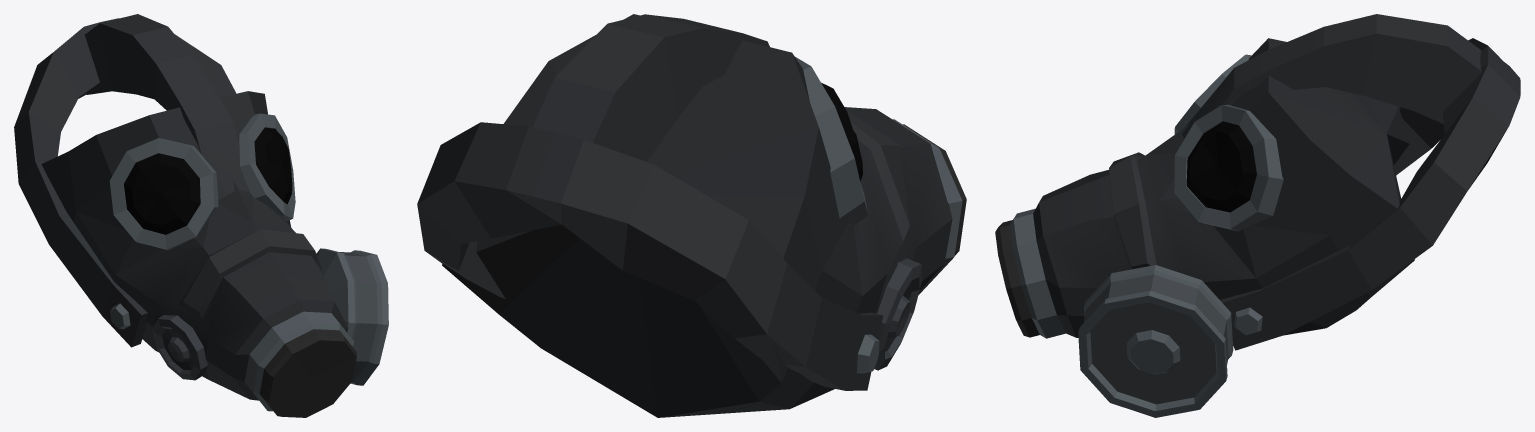
The model's file is SM_Chr_Attach_Head_GasMask_Small_01.fbx.
The picture shows the model from 3 angles, left to right: view 1: azimuth 30°, elevation 25°; view 2: azimuth 150°, elevation 25°; view 3: azimuth 270°, elevation 25°; orthographic projection. The views are drawn at different scales.
Parts seen in each view (by area): view 1: SM_Chr_Attach_Head_GasMask_Small_01; view 2: SM_Chr_Attach_Head_GasMask_Small_01; view 3: SM_Chr_Attach_Head_GasMask_Small_01.
Boxes of the visible parts, bbox=[...] form: SM_Chr_Attach_Head_GasMask_Small_01: bbox=[14, 14, 388, 417]; SM_Chr_Attach_Head_GasMask_Small_01: bbox=[417, 14, 966, 417]; SM_Chr_Attach_Head_GasMask_Small_01: bbox=[995, 14, 1520, 417].
Size of the model in its own units: 21.28 by 26.06 by 36.47.
